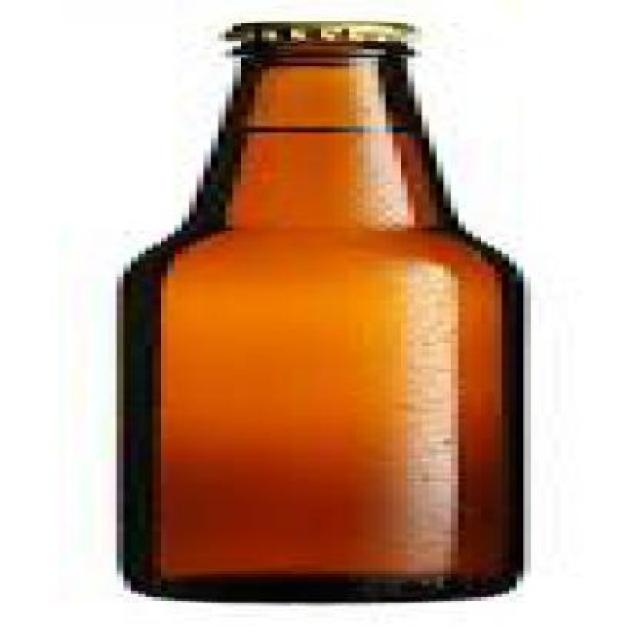GLASS: (120, 44, 526, 604)
METAL: (222, 20, 403, 40)
